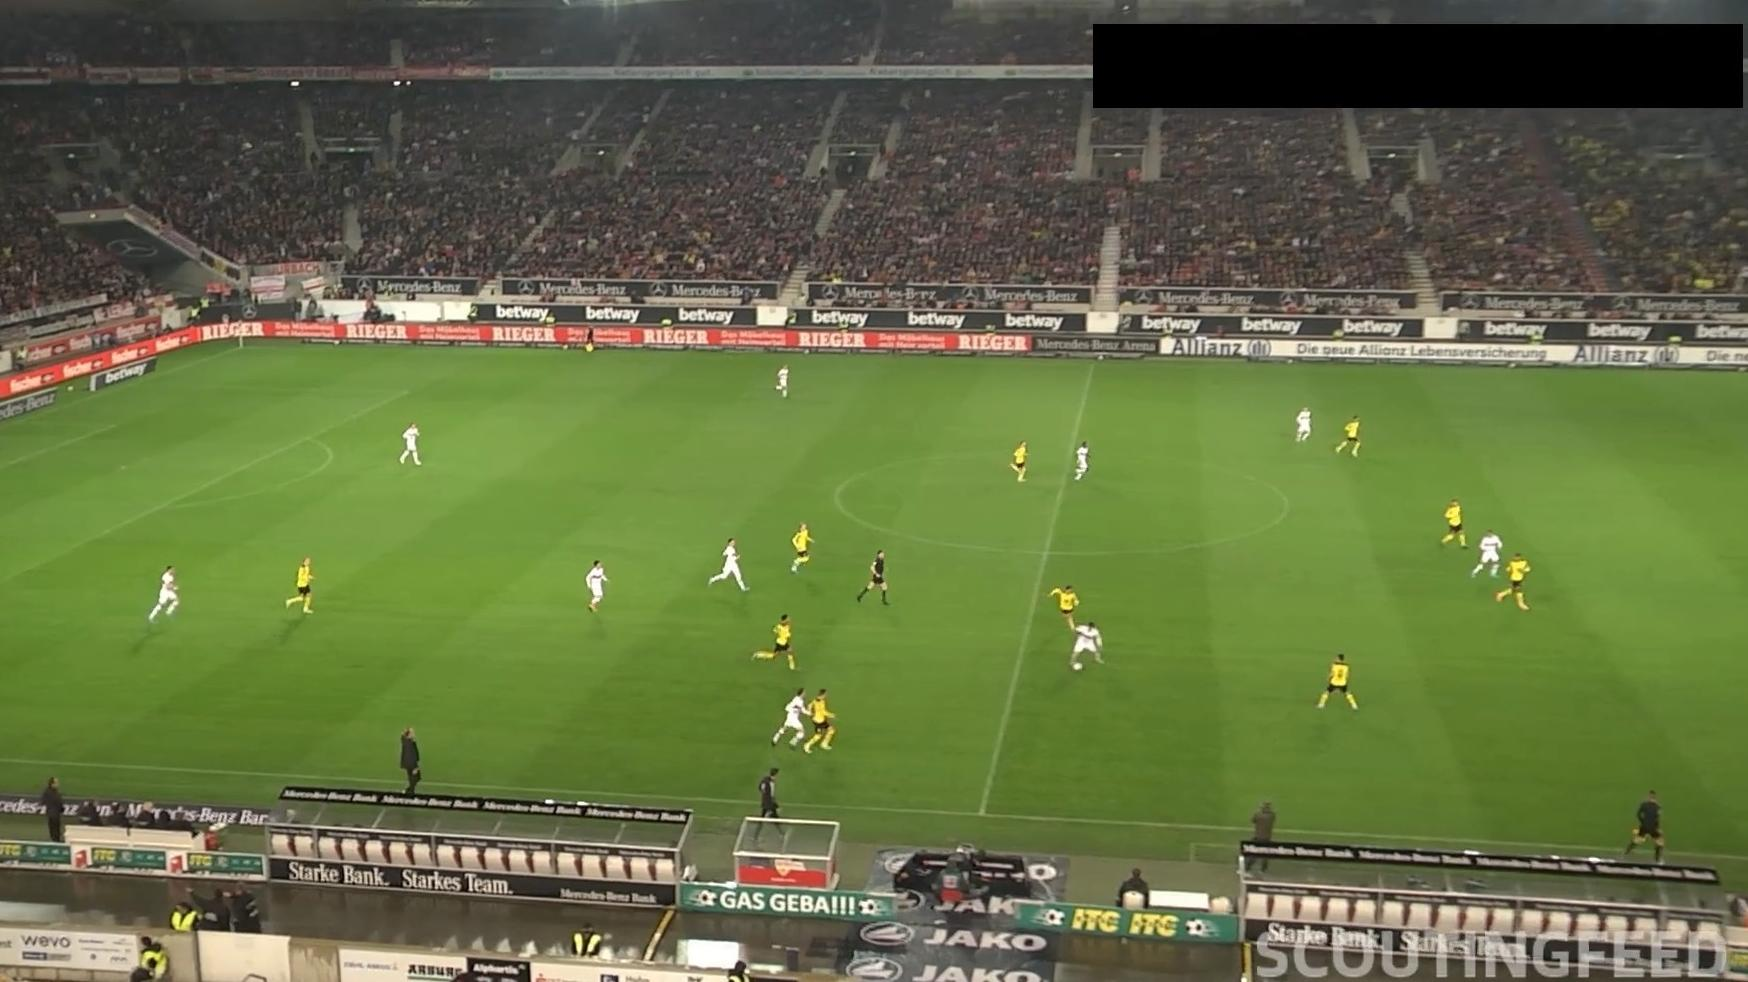ball: (1072, 660, 1084, 673)
